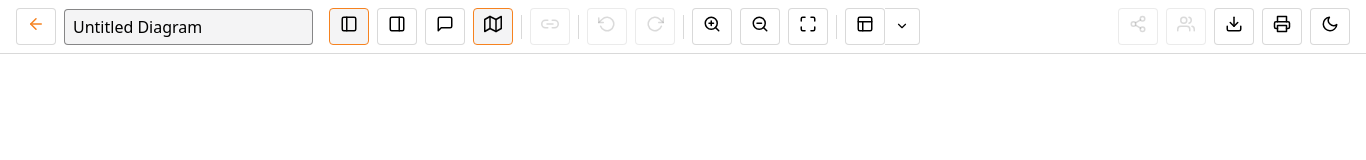
Toolbar › closes the layout direction menu when clicking outside it
Click the button named "Choose layout direction".
click(902, 26)  # box [885,8,920,45]
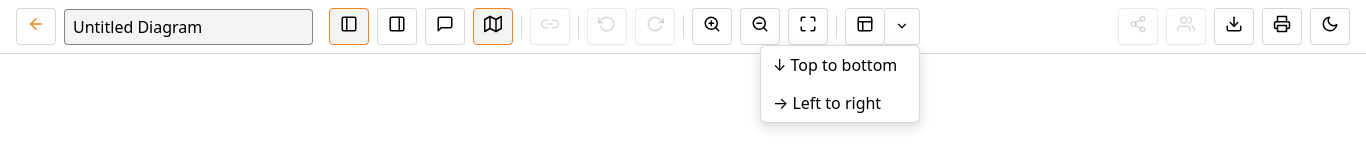
Check: the menu item "→ Left to right" is shown, box [761,84,919,122]
Press the mouse on the element showing "↓ Top to bottom → Left to right" at (683, 27), box [0,0,1365,54]
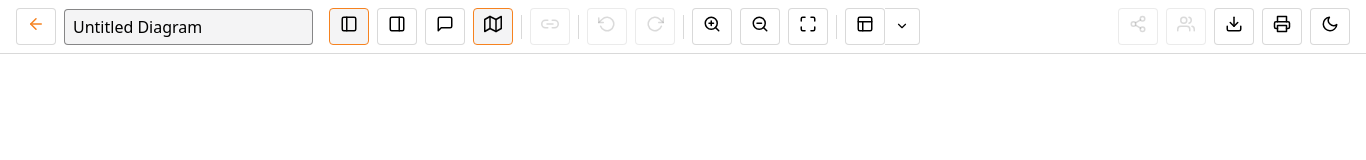
Check: the menu item "→ Left to right" is gone
